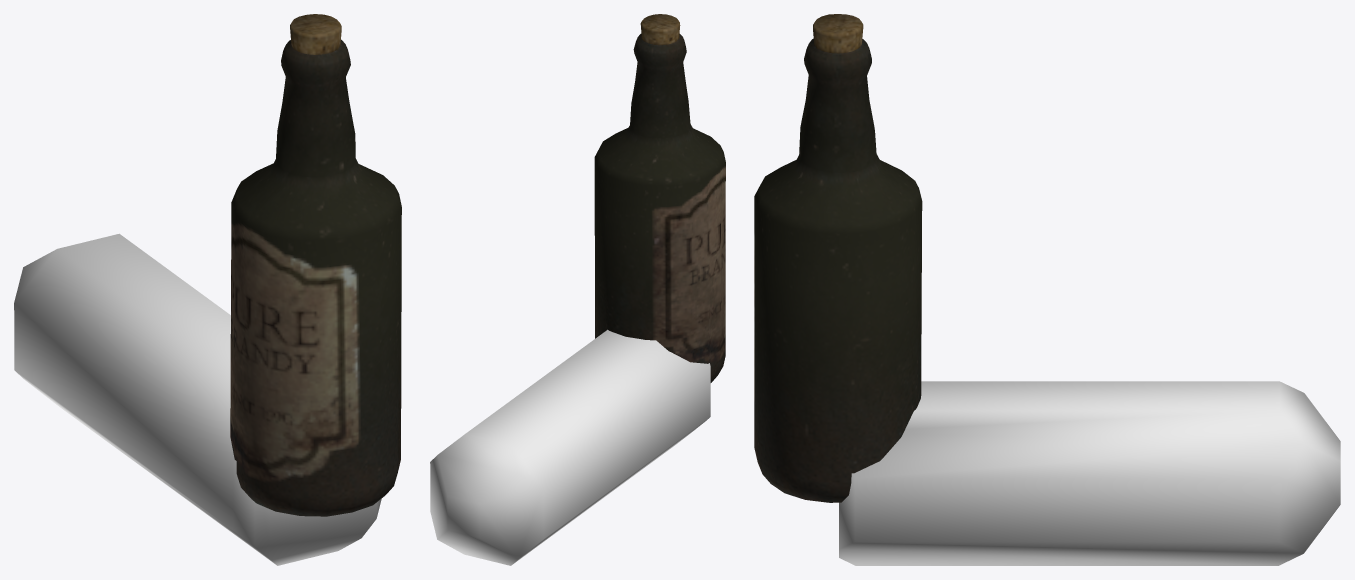
Rendered from SM_Bottle_D.fbx.
3 views of the same model, side by side, from view 1: azimuth 30°, elevation 25°; view 2: azimuth 150°, elevation 25°; view 3: azimuth 270°, elevation 25° (orthographic). The views are drawn at different scales.
Parts seen in each view (by area): view 1: SM_Bottle_D, SM_Bottle_D_ConvexHulls; view 2: SM_Bottle_D_ConvexHulls, SM_Bottle_D; view 3: SM_Bottle_D_ConvexHulls, SM_Bottle_D.
Boxes of the visible parts, x1,y1,x2,y2 form: SM_Bottle_D: (230,14,401,516); SM_Bottle_D_ConvexHulls: (14,233,381,565); SM_Bottle_D_ConvexHulls: (430,329,710,565); SM_Bottle_D: (594,14,725,382); SM_Bottle_D_ConvexHulls: (839,381,1340,565); SM_Bottle_D: (754,14,922,502).
Bounding box in the file's own units: 0.1369 × 0.4719 × 0.4756.
